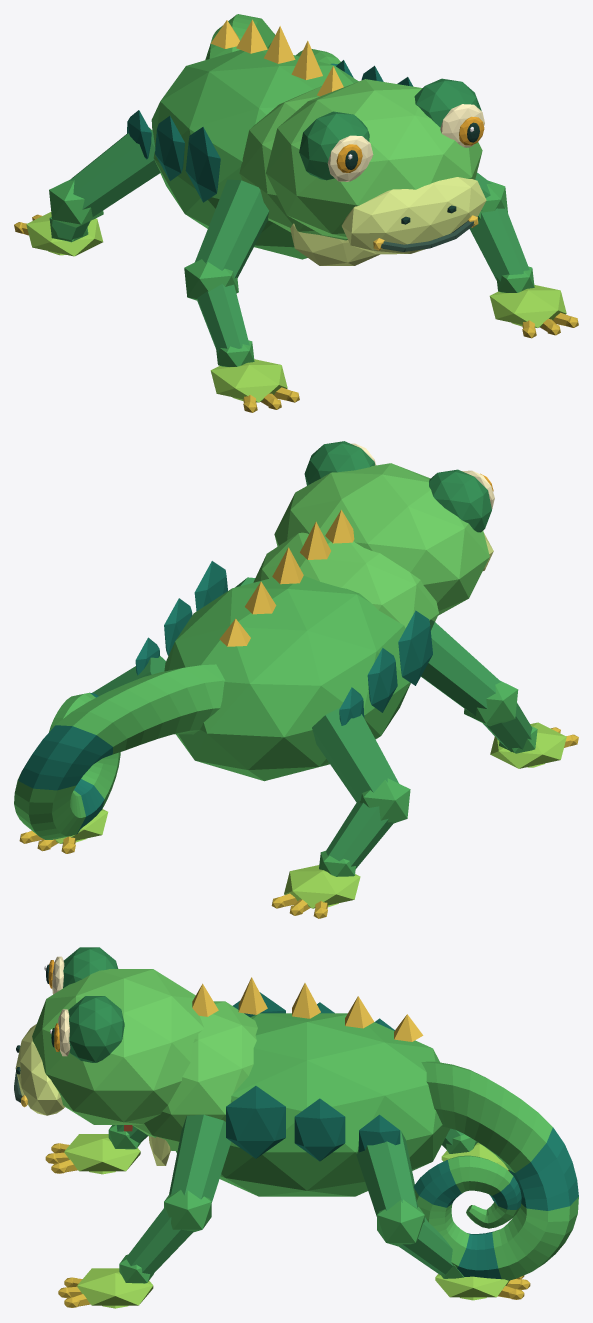
File: camo.glb
3 views of the same model, one above another, from view 1: azimuth 30°, elevation 25°; view 2: azimuth 150°, elevation 25°; view 3: azimuth 270°, elevation 25° (orthographic). The views are drawn at different scales.
Visible parts, largest first — view 1: Head, Body, Muzzle, Front_Left_UpperLeg, Back_Left_UpperLeg, Neck, Front_Right_LowerLeg, Eye_Left_Turret, Front_Left_LowerLeg, Front_Left_Palm, Front_Right_Palm, Belly_Patch (+16 smaller); view 2: Body, Tail_Curl, Head, Neck, Back_Left_UpperLeg, Front_Left_UpperLeg, Eye_Left_Turret, Back_Left_LowerLeg, Back_Left_Palm, Left_CamoSpot_1, Eye_Right_Turret, Front_Left_Palm (+13 smaller); view 3: Body, Tail_Curl, Head, Neck, Front_Right_UpperLeg, Right_CamoSpot_1, Back_Right_UpperLeg, Eye_Right_Turret, Right_CamoSpot_2, Muzzle, Front_Left_Palm, Front_Right_LowerLeg (+17 smaller).
Part boxes in pixels (left/top/right/bottom): Head: left=266, top=79, right=482, bottom=238; Body: left=151, top=48, right=358, bottom=259; Muzzle: left=341, top=177, right=486, bottom=254; Front_Left_UpperLeg: left=194, top=179, right=269, bottom=278; Back_Left_UpperLeg: left=69, top=127, right=160, bottom=216; Neck: left=239, top=86, right=347, bottom=240; Front_Right_LowerLeg: left=469, top=207, right=529, bottom=281; Eye_Left_Turret: left=299, top=111, right=369, bottom=180; Front_Left_LowerLeg: left=197, top=283, right=249, bottom=352; Front_Left_Palm: left=210, top=359, right=287, bottom=402; Front_Right_Palm: left=489, top=285, right=566, bottom=327; Belly_Patch: left=290, top=223, right=379, bottom=265; Body: left=164, top=575, right=410, bottom=781; Tail_Curl: left=14, top=664, right=225, bottom=839; Head: left=274, top=463, right=489, bottom=615; Neck: left=253, top=532, right=438, bottom=628; Back_Left_UpperLeg: left=312, top=707, right=398, bottom=802; Front_Left_UpperLeg: left=421, top=619, right=500, bottom=716; Eye_Left_Turret: left=429, top=469, right=491, bottom=532; Back_Left_LowerLeg: left=326, top=800, right=393, bottom=868; Back_Left_Palm: left=284, top=865, right=360, bottom=908; Left_CamoSpot_1: left=398, top=610, right=432, bottom=685; Eye_Right_Turret: left=304, top=441, right=375, bottom=485; Front_Left_Palm: left=490, top=722, right=566, bottom=768; Body: left=176, top=1013, right=450, bottom=1196; Tail_Curl: left=414, top=1061, right=578, bottom=1280; Head: left=32, top=969, right=203, bottom=1124; Neck: left=132, top=1001, right=257, bottom=1150; Front_Right_UpperLeg: left=169, top=1114, right=231, bottom=1202; Right_CamoSpot_1: left=226, top=1086, right=285, bottom=1158; Back_Right_UpperLeg: left=356, top=1130, right=418, bottom=1216; Eye_Right_Turret: left=68, top=996, right=124, bottom=1062; Right_CamoSpot_2: left=294, top=1098, right=345, bottom=1161; Muzzle: left=15, top=1024, right=64, bottom=1115; Front_Left_Palm: left=64, top=1134, right=140, bottom=1171; Front_Right_LowerLeg: left=124, top=1208, right=193, bottom=1276.
Bounding box in the file's own units: 0.9285 × 0.67 × 1.33.
